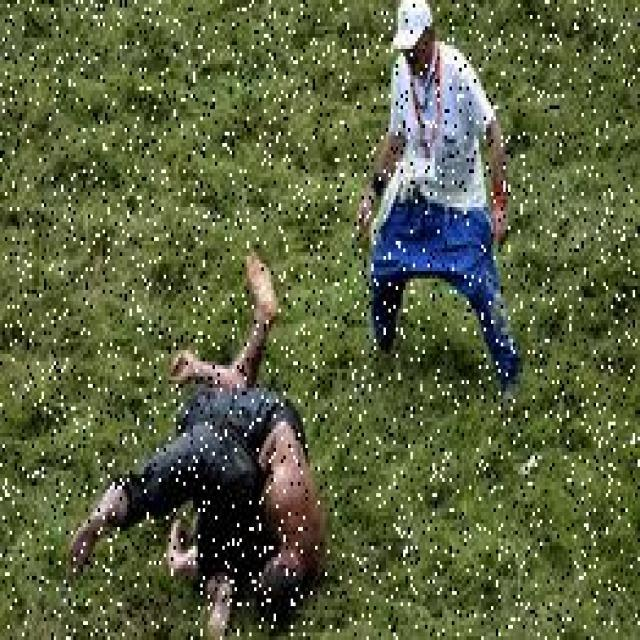fall: (164, 373, 325, 606)
